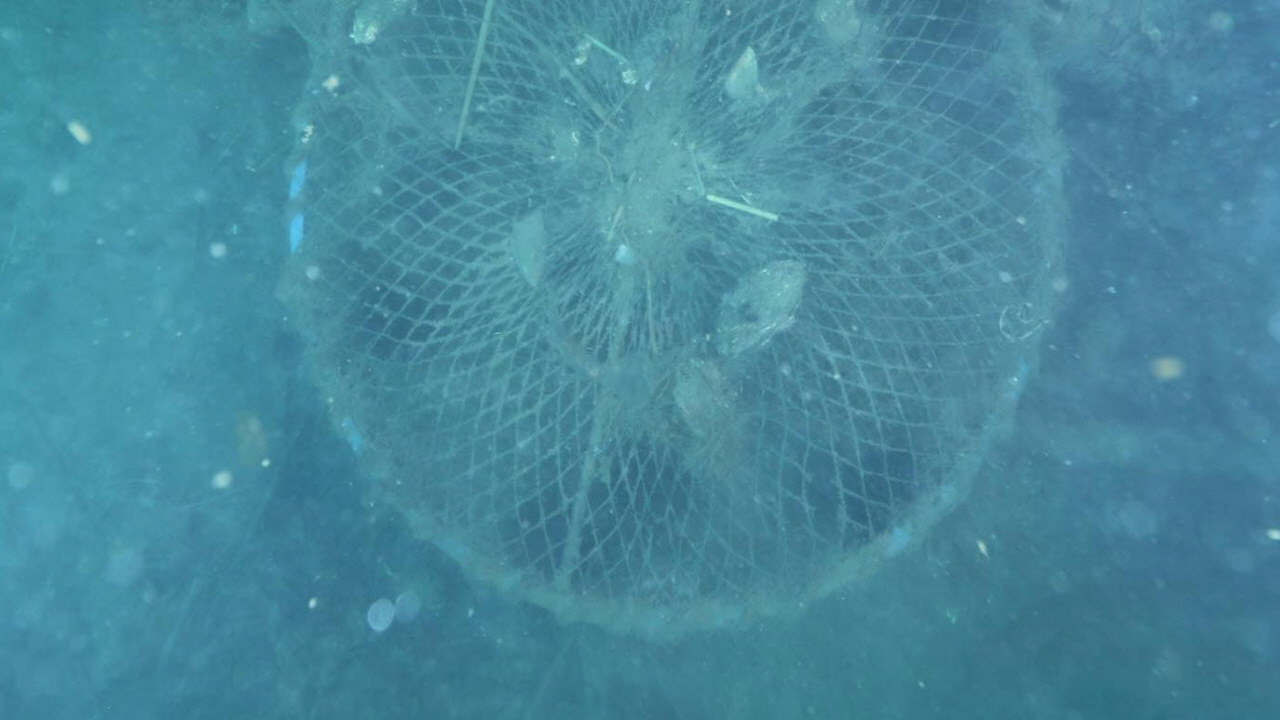circular fish trap: (276, 0, 1063, 635)
